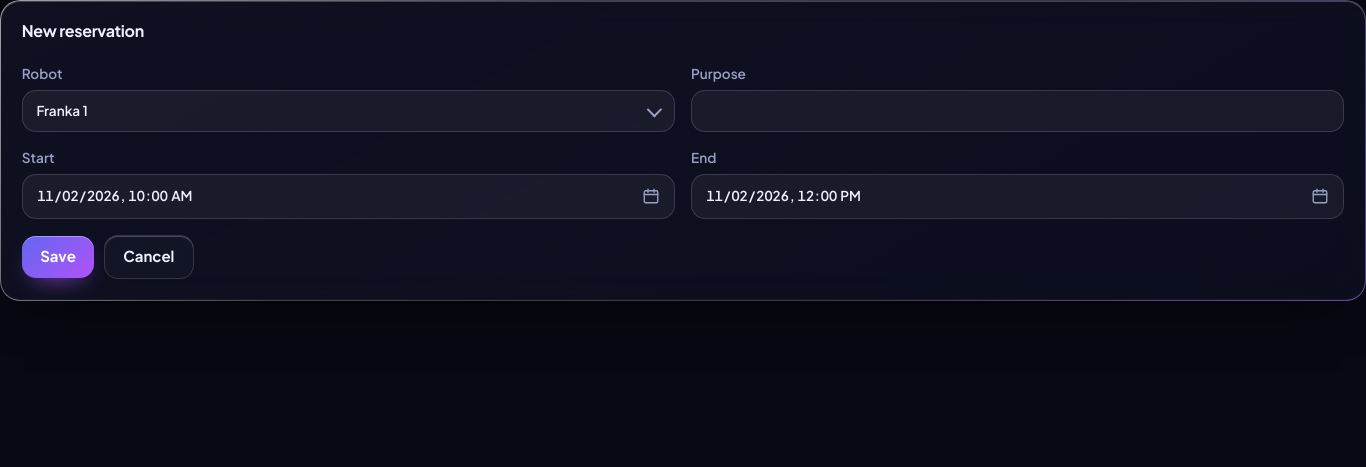
Test case: ReservationForm › shows the conflict and applies the suggested slot
Click the button "Save" at (58, 257), box [22, 236, 94, 278]
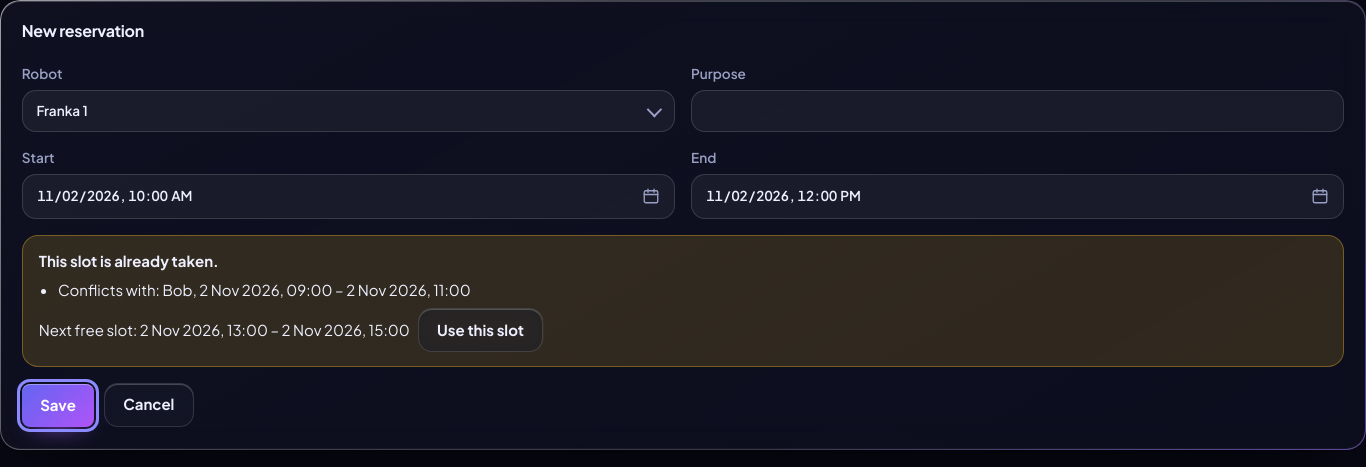
Now the text "This slot is already taken." is shown, box [39, 251, 219, 270]
Now the list item "Conflicts with: Bob, 2 Nov 2026, 09:00 – 2 Nov 2026, 11:00" is shown, box [58, 280, 471, 299]
Click the button "Use this slot" at (481, 330), box [418, 308, 543, 352]
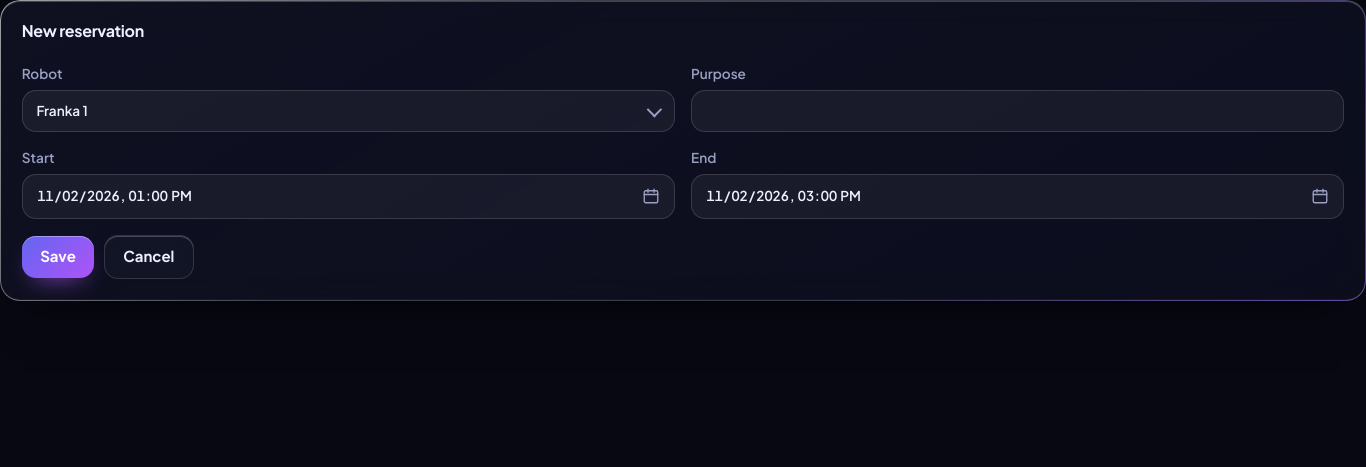
Now the text "This slot is already taken." is gone
